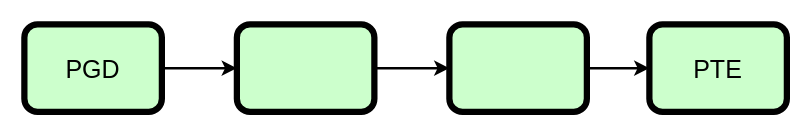
This 811x136 diagram has some shape labels left out. Each missing label, with the centre of its shape:
"PMD" belongs at [517,67].
"PUD" belongs at [305,67].
